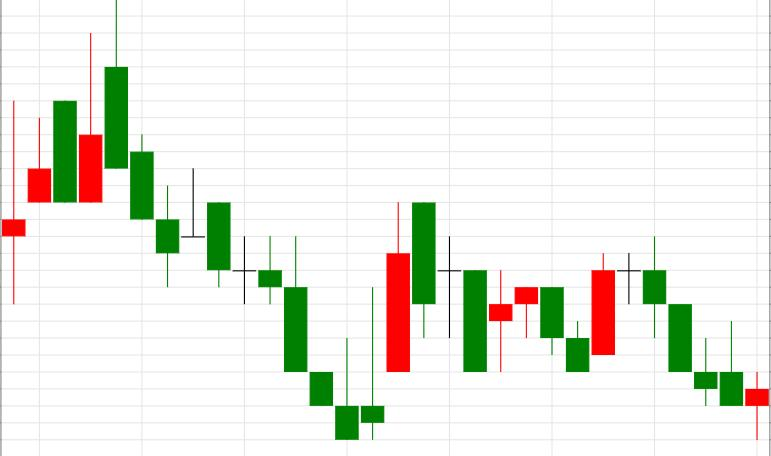inverse_hammer_rise: (208, 202, 358, 440), (618, 235, 742, 406)
